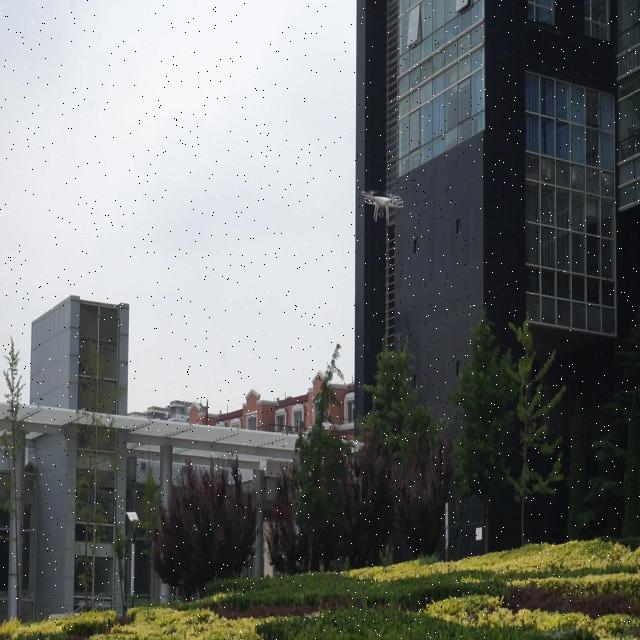UAV: (361, 190, 404, 223)
